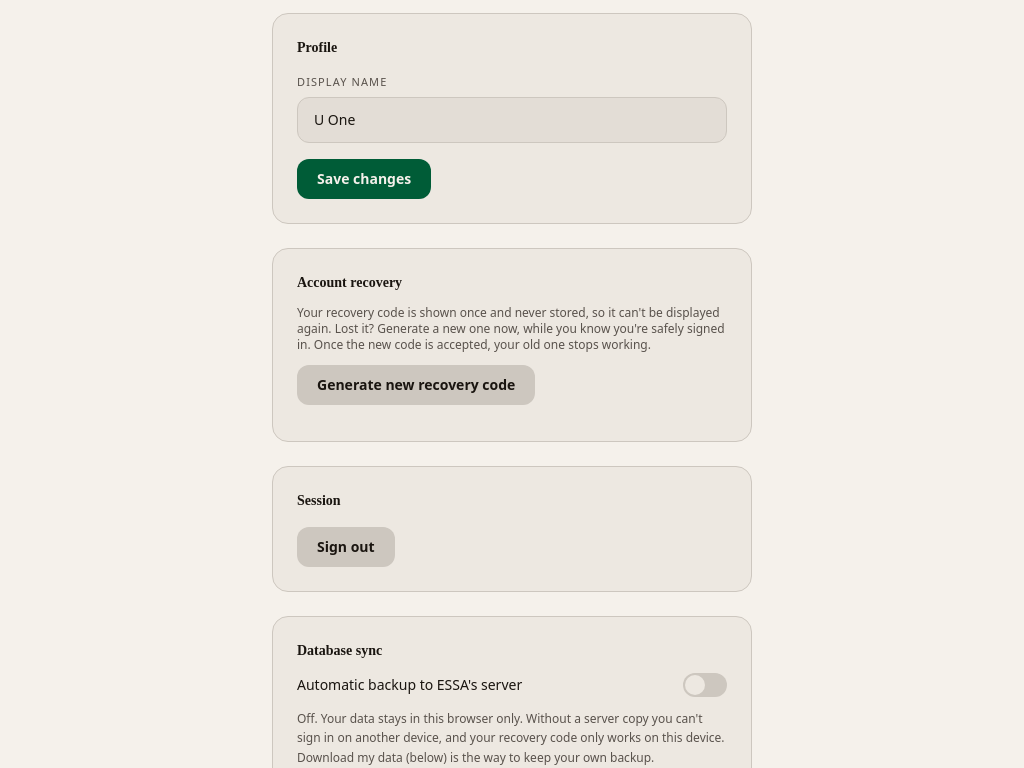
Test: regenerating from Profile › uploads nothing afterwards: the server's half happened inside regenerate
(page scrolled)
Click the button "Generate new recovery code" at (416, 384), box x1=297 y1=364 x2=535 y2=404
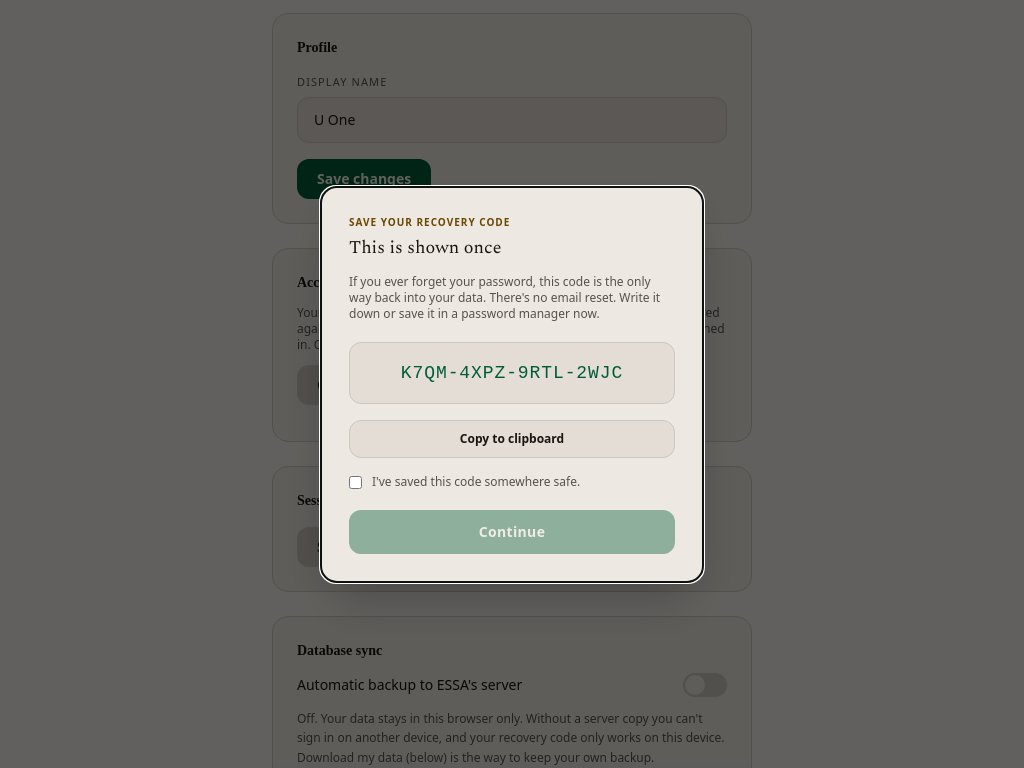
Result: the text "K7QM-4XPZ-9RTL-2WJC" is shown at x1=349 y1=342 x2=675 y2=404
